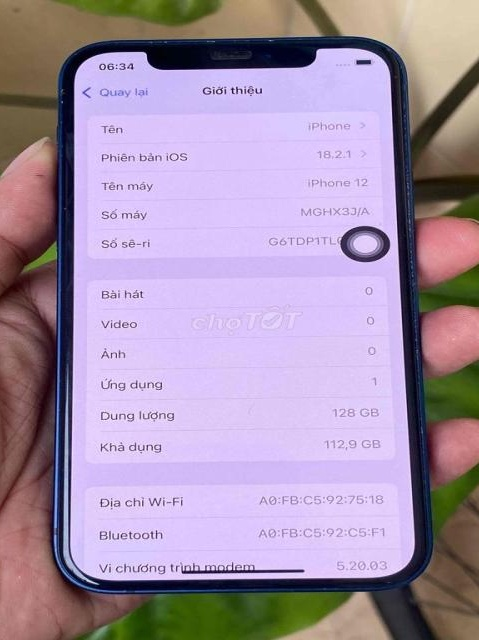scratch: (155, 29, 337, 56)
